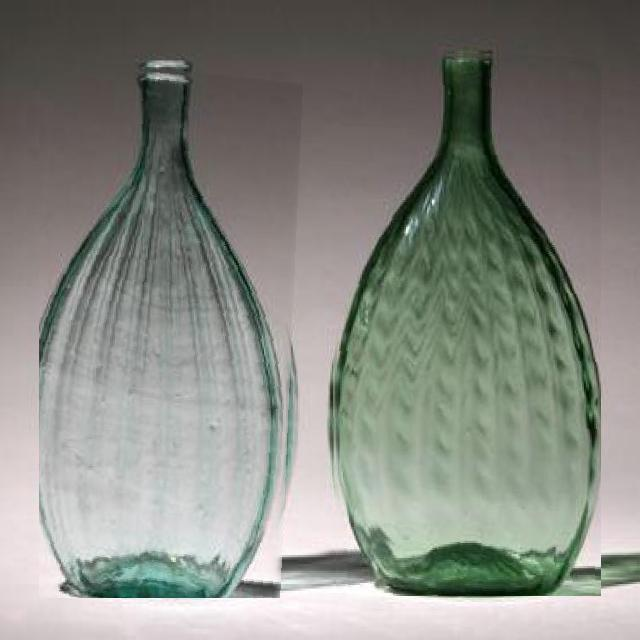Glass: (328, 46, 601, 596), (39, 56, 303, 598)
